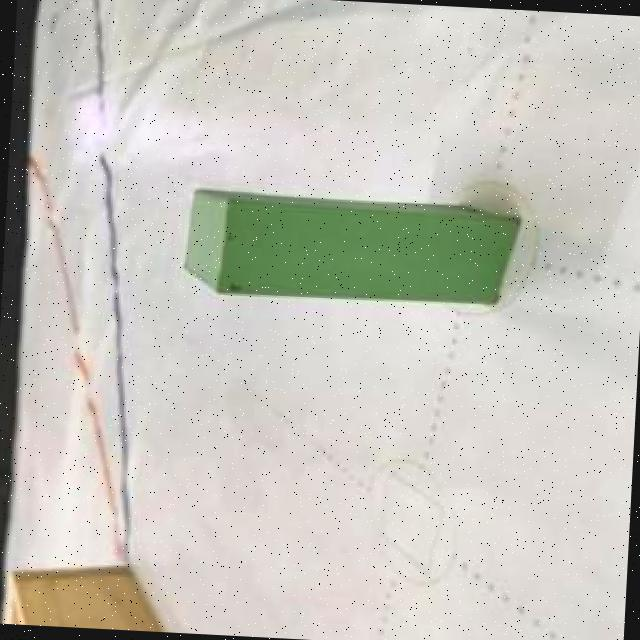greenbox: (182, 187, 526, 310)
